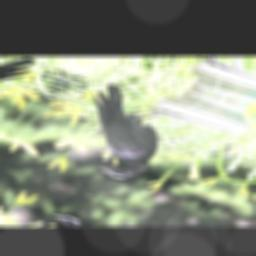Crow: (32, 79, 204, 182)
